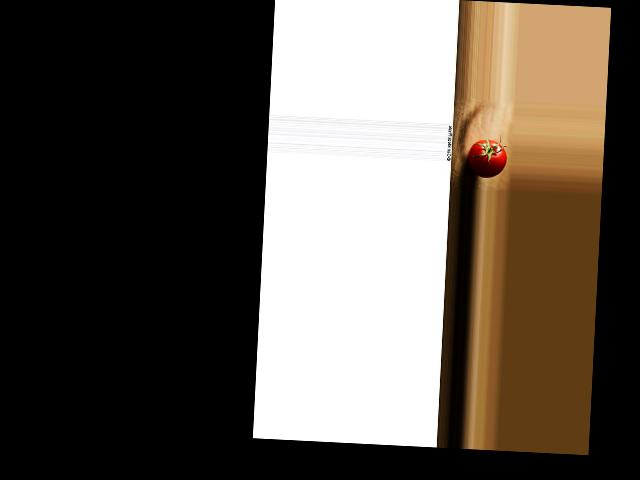tomato: (467, 138, 506, 178)
